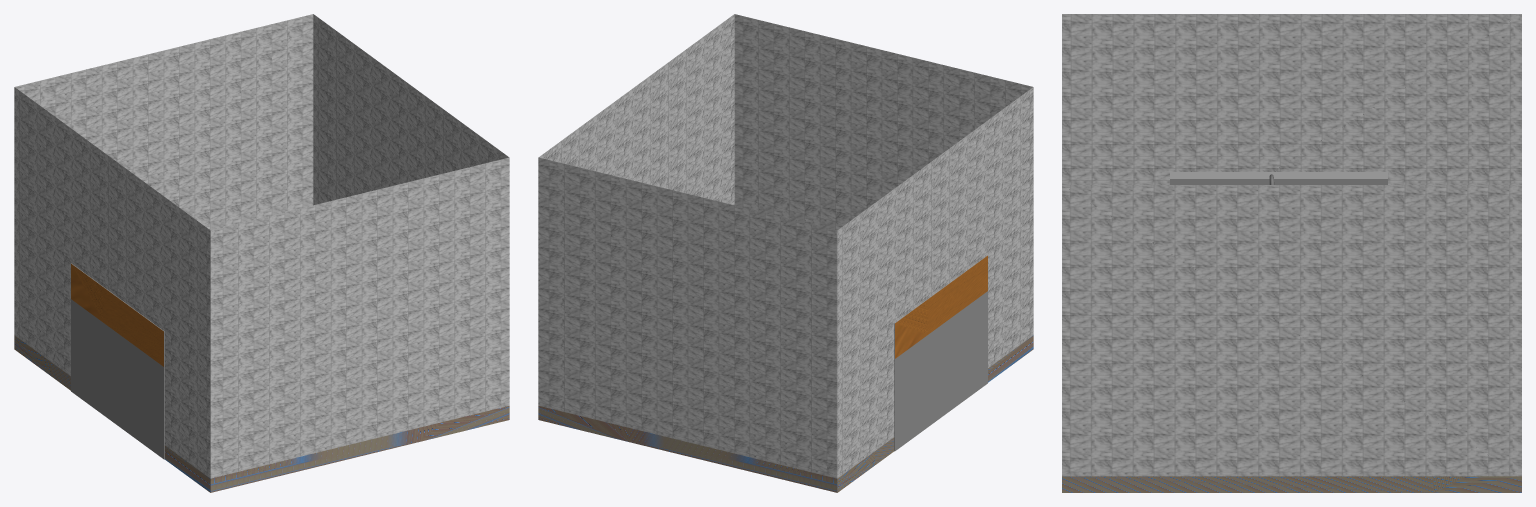
File: cozinhafinal1fbx.fbx
The picture shows the model from 3 angles, left to right: view 1: azimuth 30°, elevation 25°; view 2: azimuth 150°, elevation 25°; view 3: azimuth 270°, elevation 25°; orthographic projection. The views are drawn at different scales.
Visible parts, largest first — view 1: Cube_002, BezierCurve_003; view 2: Cube_002, BezierCurve_003; view 3: Cube_002, BezierCurve_003.
Part boxes in pixels (bbox=[...]): Cube_002: bbox=[14, 14, 509, 492]; BezierCurve_003: bbox=[71, 263, 164, 459]; Cube_002: bbox=[538, 14, 1033, 492]; BezierCurve_003: bbox=[894, 255, 987, 451]; Cube_002: bbox=[1062, 14, 1521, 492]; BezierCurve_003: bbox=[1170, 172, 1387, 184].
Size of the model in its own units: 21.19 by 18.17 by 24.03.
